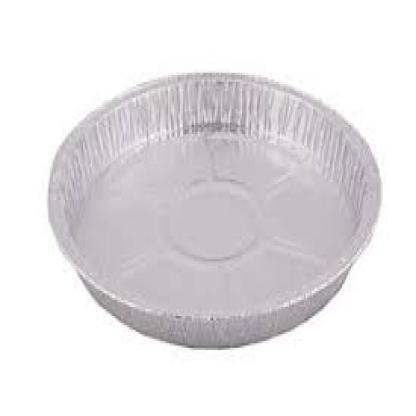Compsot: (49, 68, 382, 350)
